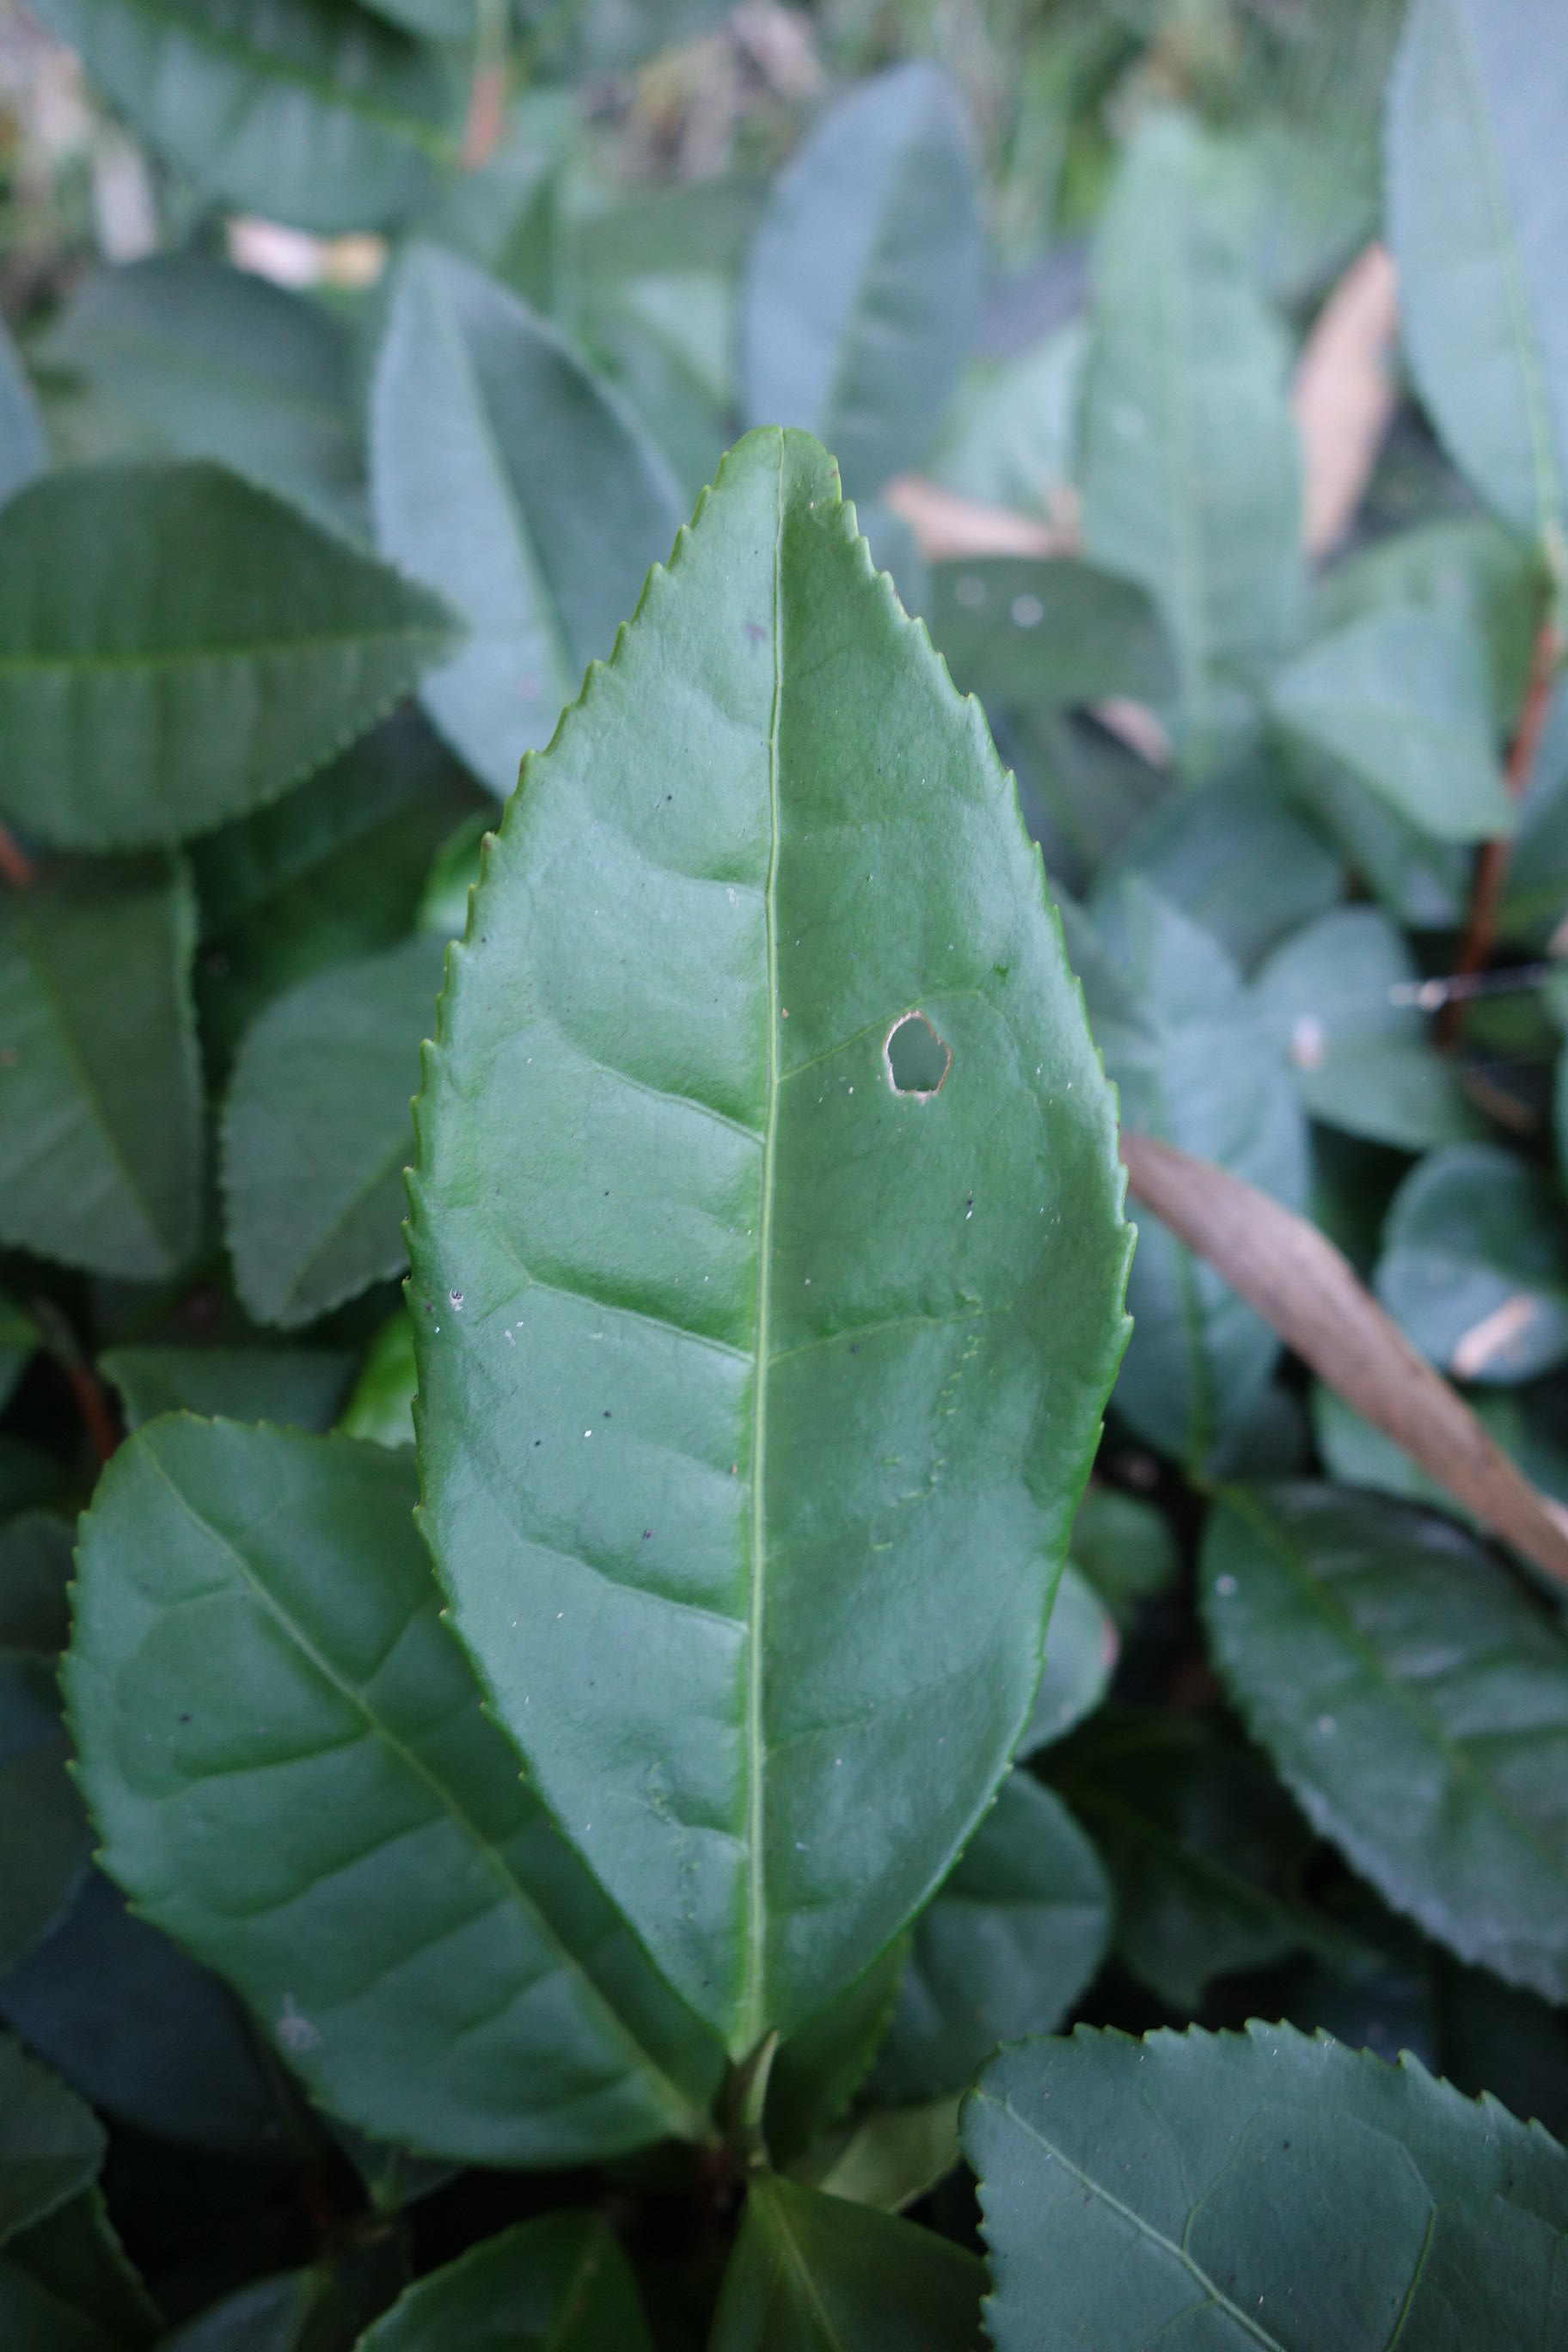chihuo_low: (406, 432, 1132, 2065)
